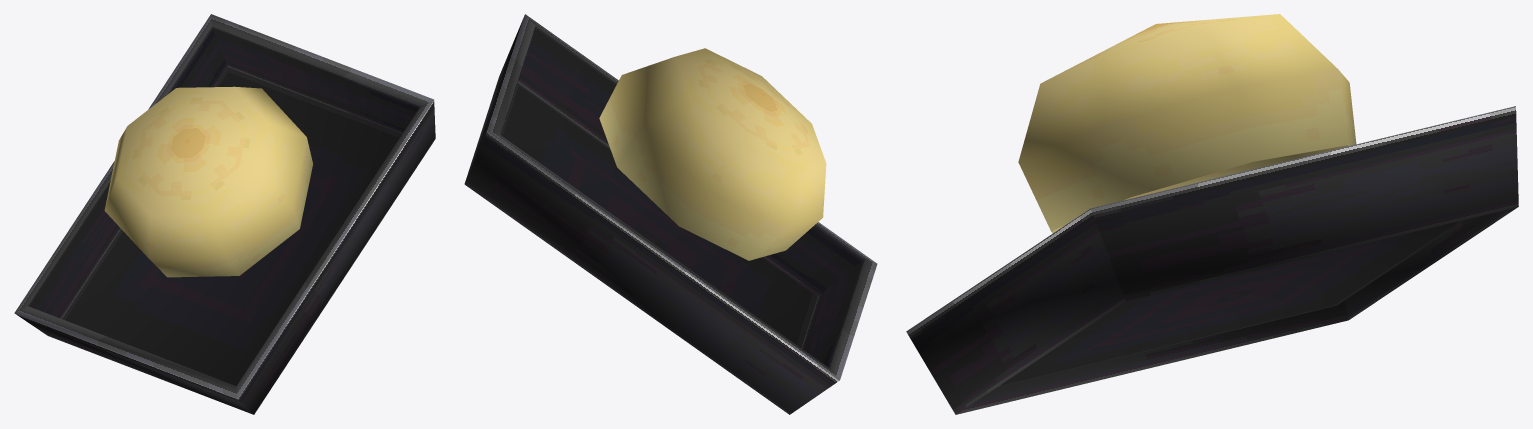
3 renders of one model, left to right at view 1: azimuth 30°, elevation 25°; view 2: azimuth 150°, elevation 25°; view 3: azimuth 270°, elevation 25°, orthographic. The views are drawn at different scales.
Parts seen in each view (by area): view 1: 2791item2791e; view 2: 2791item2791e; view 3: 2791item2791e.
Boxes of the visible parts, left/top/right/bottom form: 2791item2791e: left=14, top=14, right=435, bottom=414; 2791item2791e: left=464, top=14, right=877, bottom=414; 2791item2791e: left=906, top=14, right=1518, bottom=414.
Size of the model in its own units: 0.8972 by 0.6201 by 0.7962.
2 materials, 2 textured.
